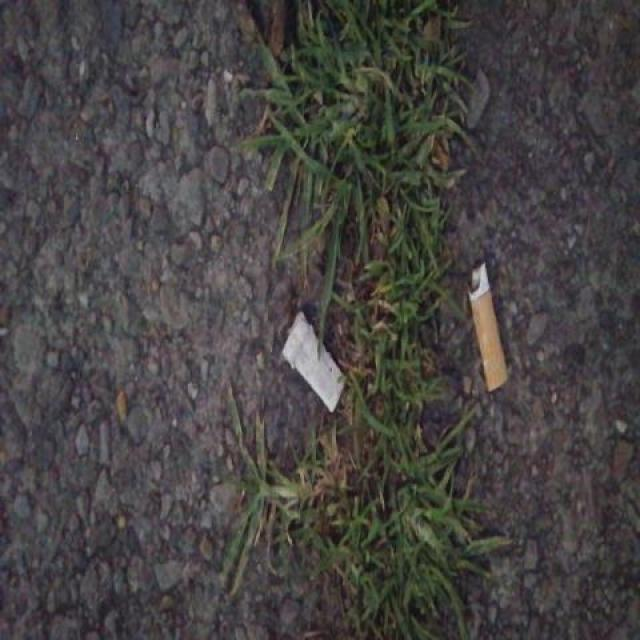non-organic waste: (278, 306, 351, 418), (462, 258, 514, 398)
